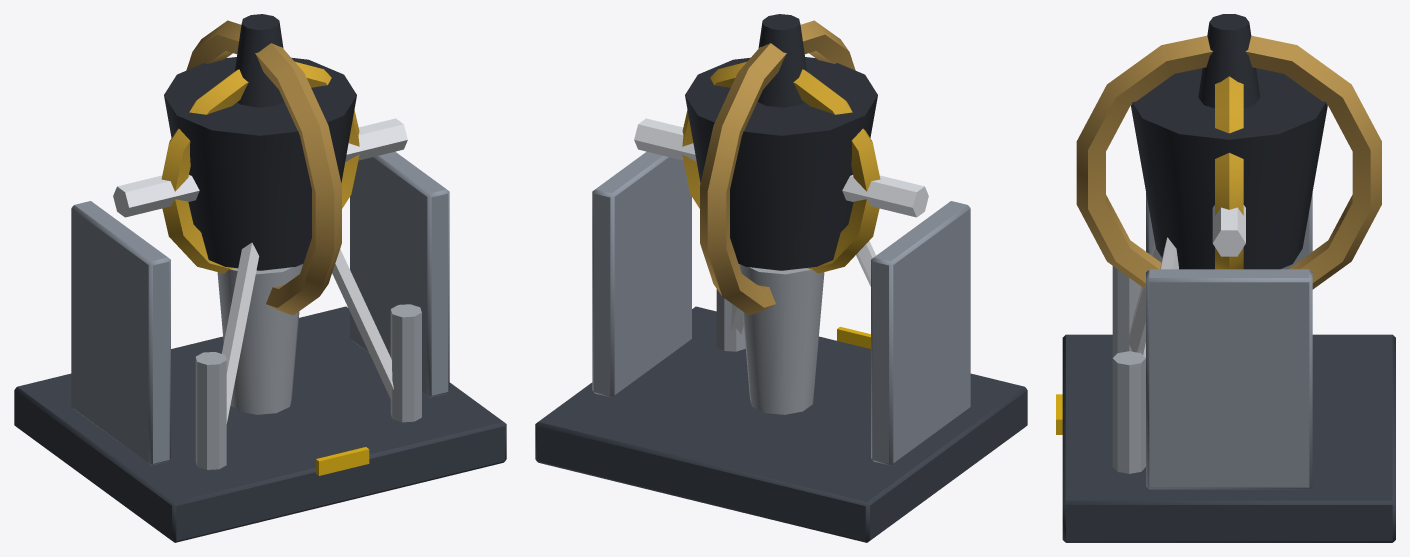
Rendered from nozzle_gimbal_mount.glb.
3 views of the same model, side by side, from view 1: azimuth 30°, elevation 25°; view 2: azimuth 150°, elevation 25°; view 3: azimuth 270°, elevation 25° (orthographic). The views are drawn at different scales.
Visible parts, largest first — view 1: nozzle_gimbal_mount; view 2: nozzle_gimbal_mount; view 3: nozzle_gimbal_mount.
Part boxes in pixels (x1,y1,x2,y2): nozzle_gimbal_mount: (14,14,506,542); nozzle_gimbal_mount: (535,14,1027,542); nozzle_gimbal_mount: (1056,14,1395,542).
Bounding box in the file's own units: 1.2 × 1.45 × 1.02.
